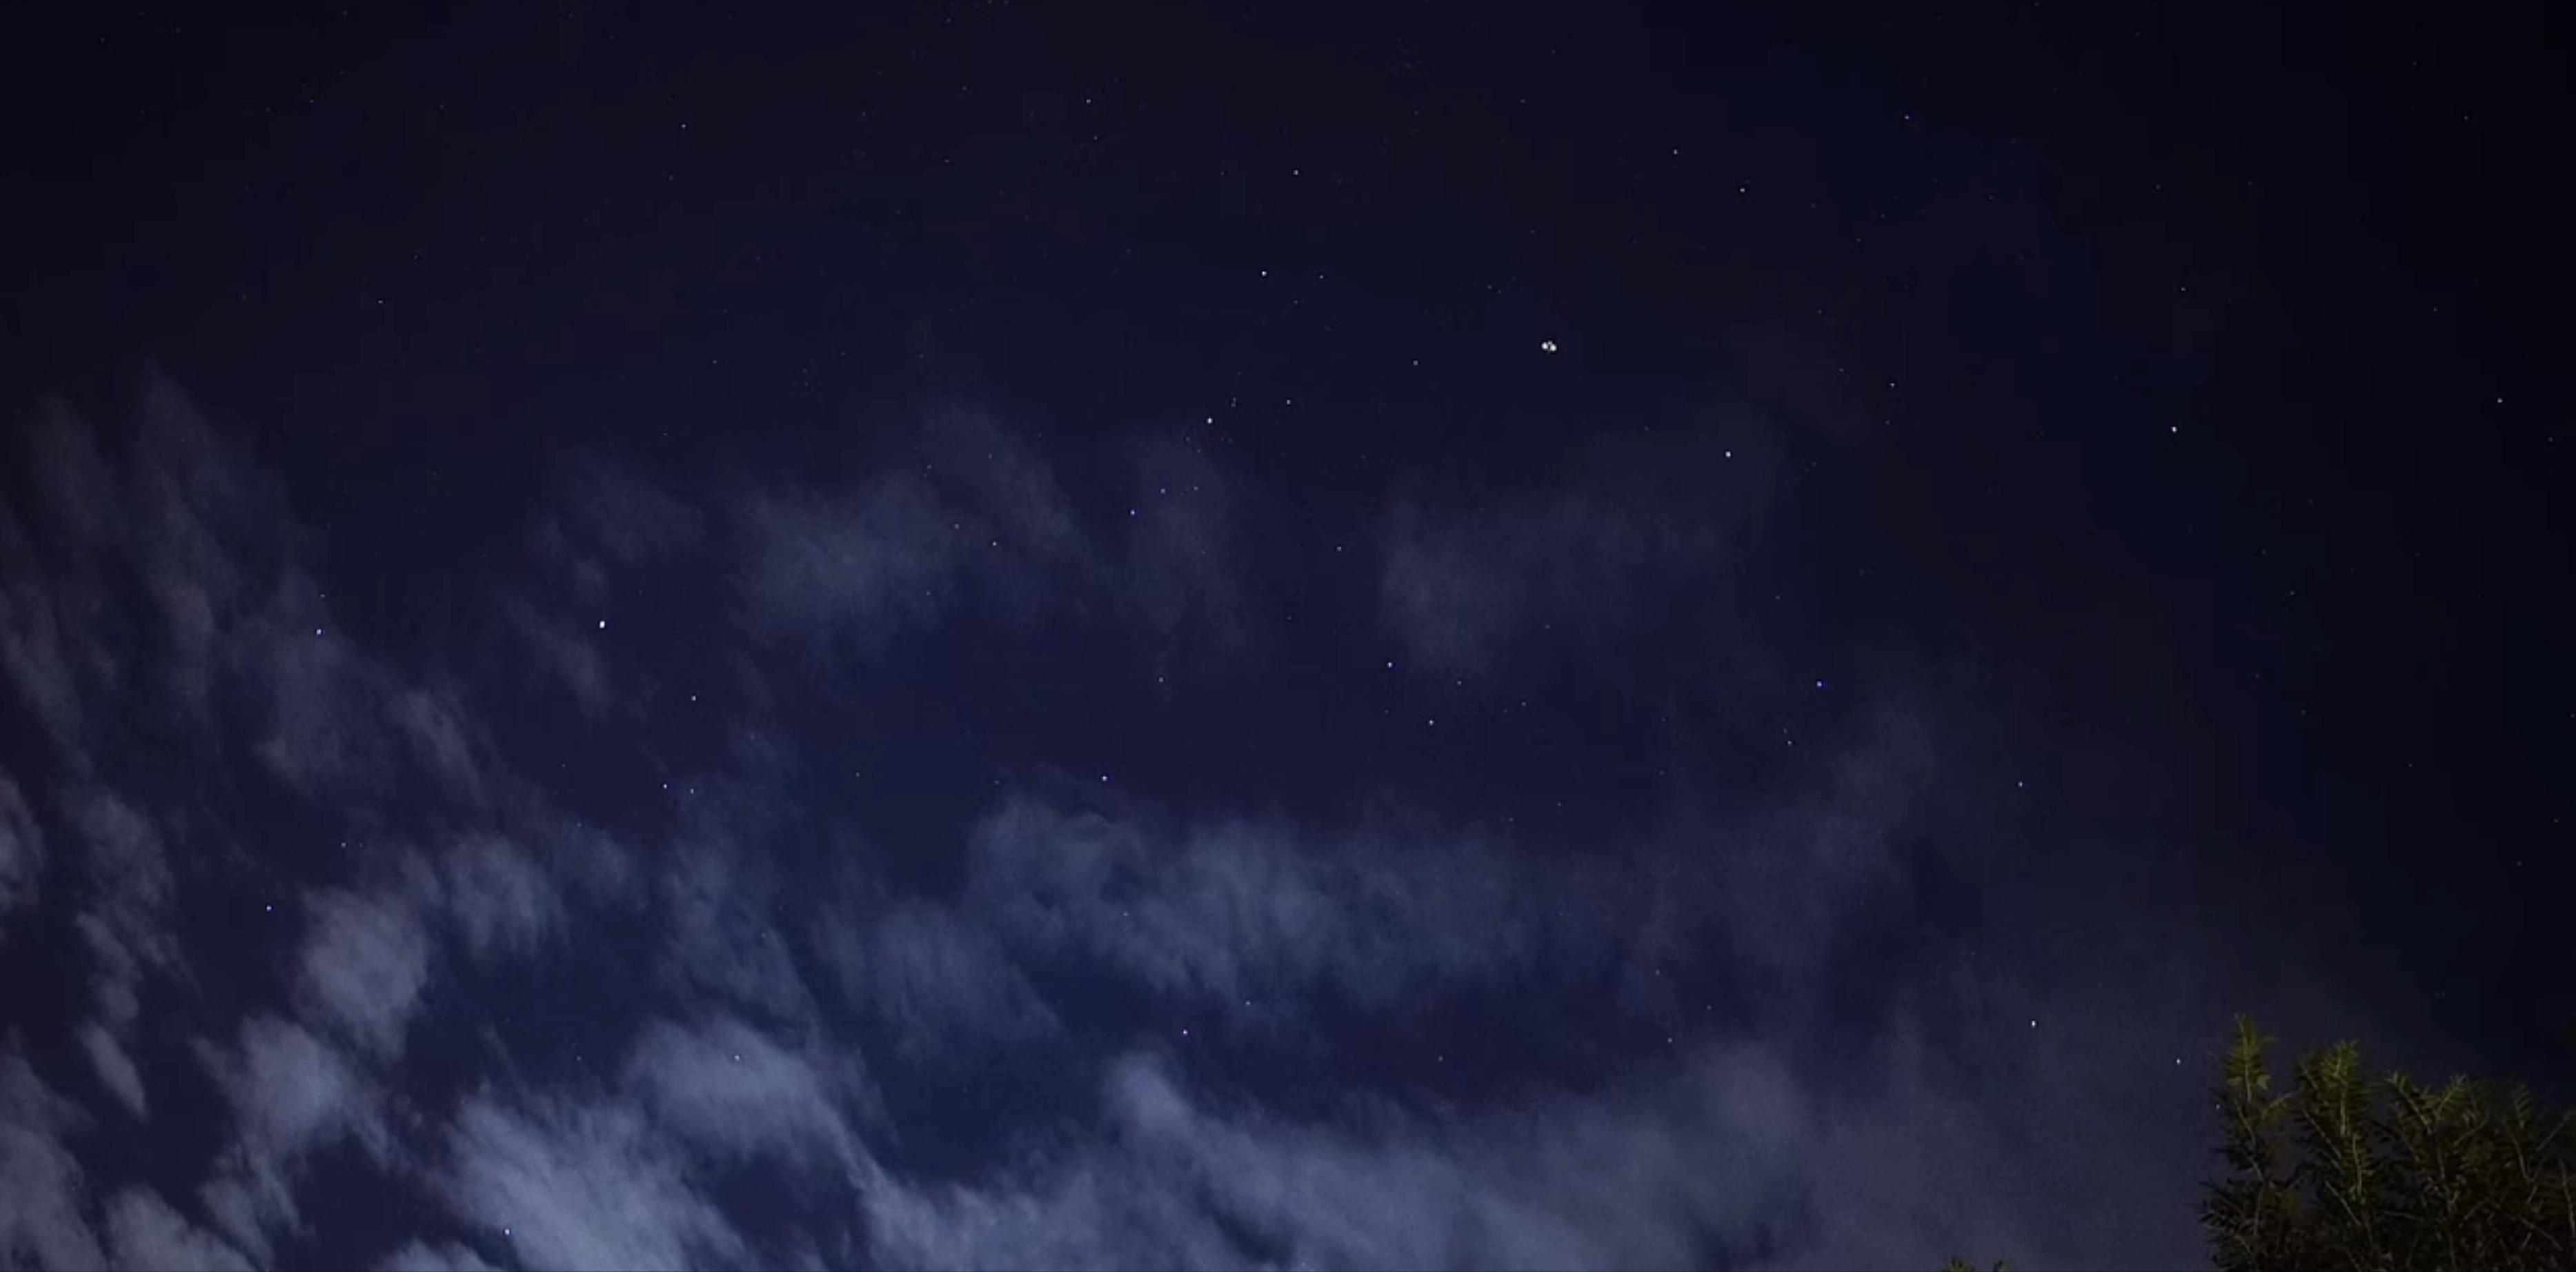Plane: (1520, 330, 1582, 362)
